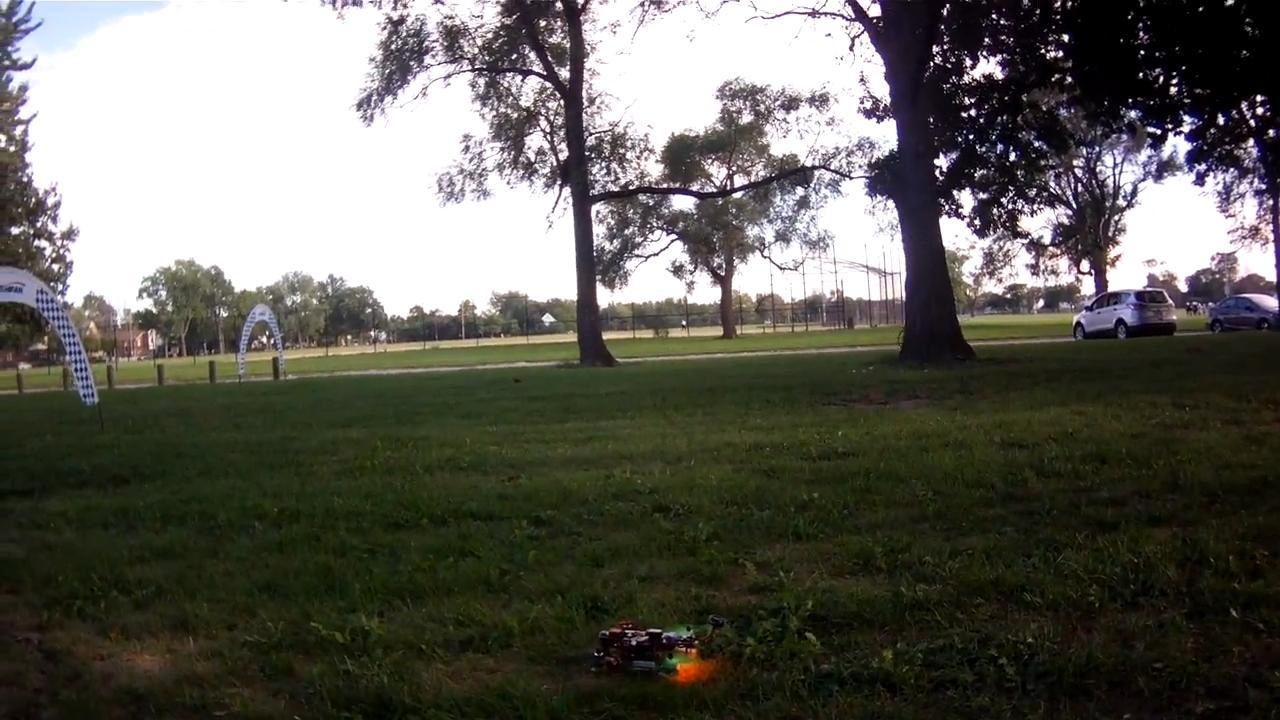gate: (234, 304, 290, 377)
